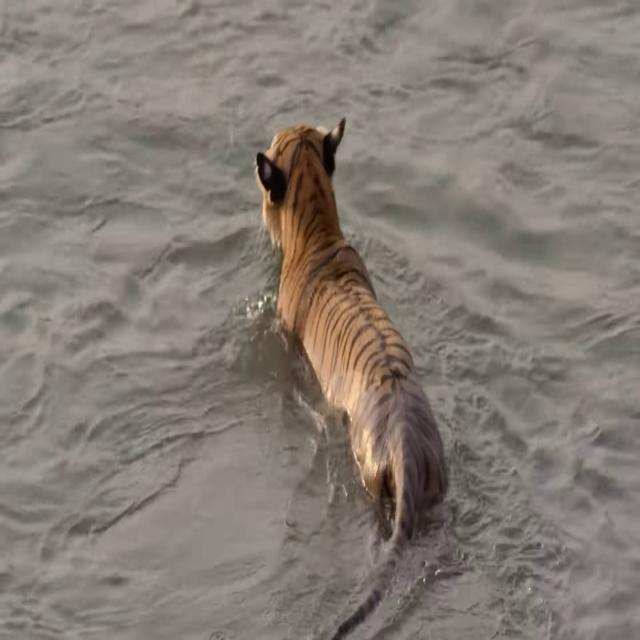tiger: (254, 114, 448, 640)
